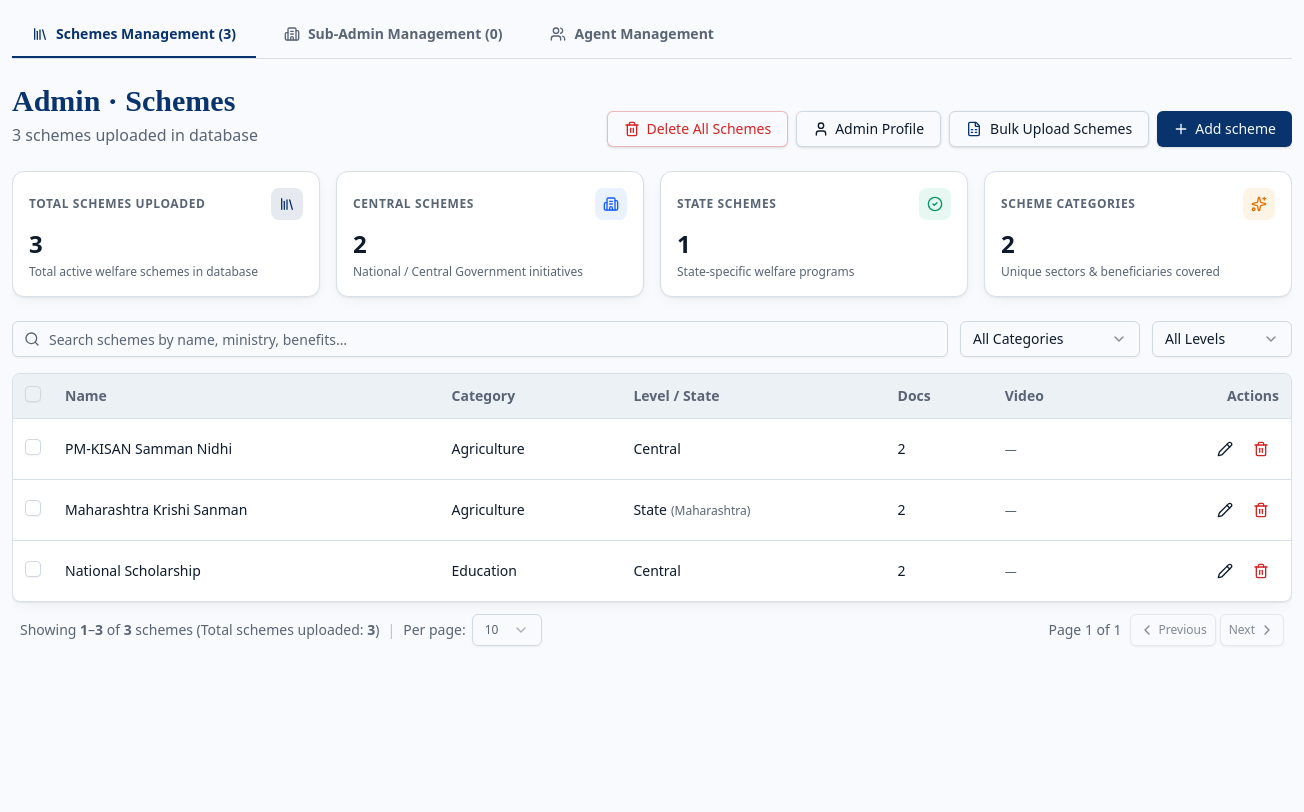
Test: Admin Bulk Delete Schemes Functionality › allows selecting and deselecting individual schemes and shows correct count
# Select scheme 1
Click the checkbox with test id "select-scheme-scheme-1" at x=33, y=447, box x1=25 y1=439 x2=41 y2=455
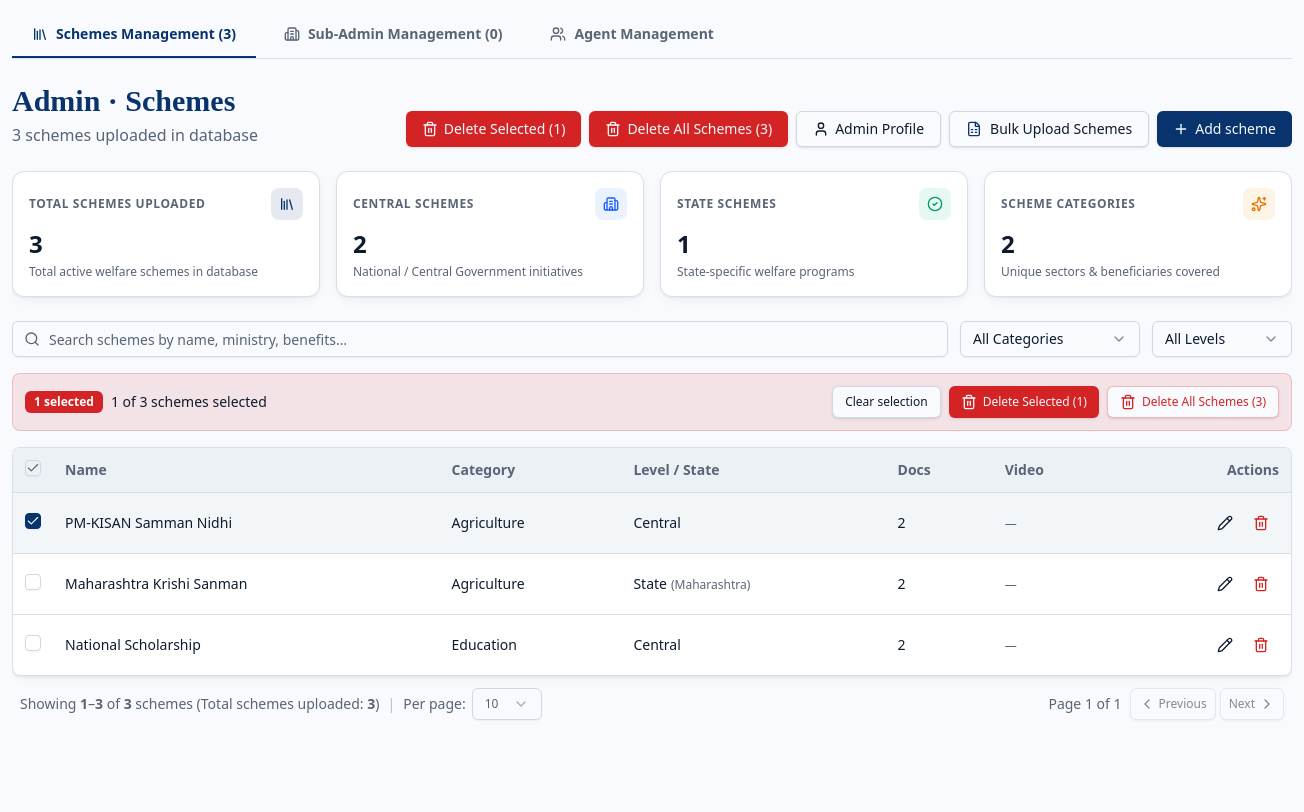
Expected: the element with test id "bulk-actions-bar" is shown, x1=12 y1=373 x2=1292 y2=431
Expected: the text "1 selected" is shown, x1=25 y1=391 x2=103 y2=413
Expected: the button with test id "bulk-delete-button" reads "Delete Selected (1)", x1=949 y1=386 x2=1099 y2=418
# Select scheme 2
Click the checkbox with test id "select-scheme-scheme-2" at x=33, y=582, box x1=25 y1=574 x2=41 y2=590
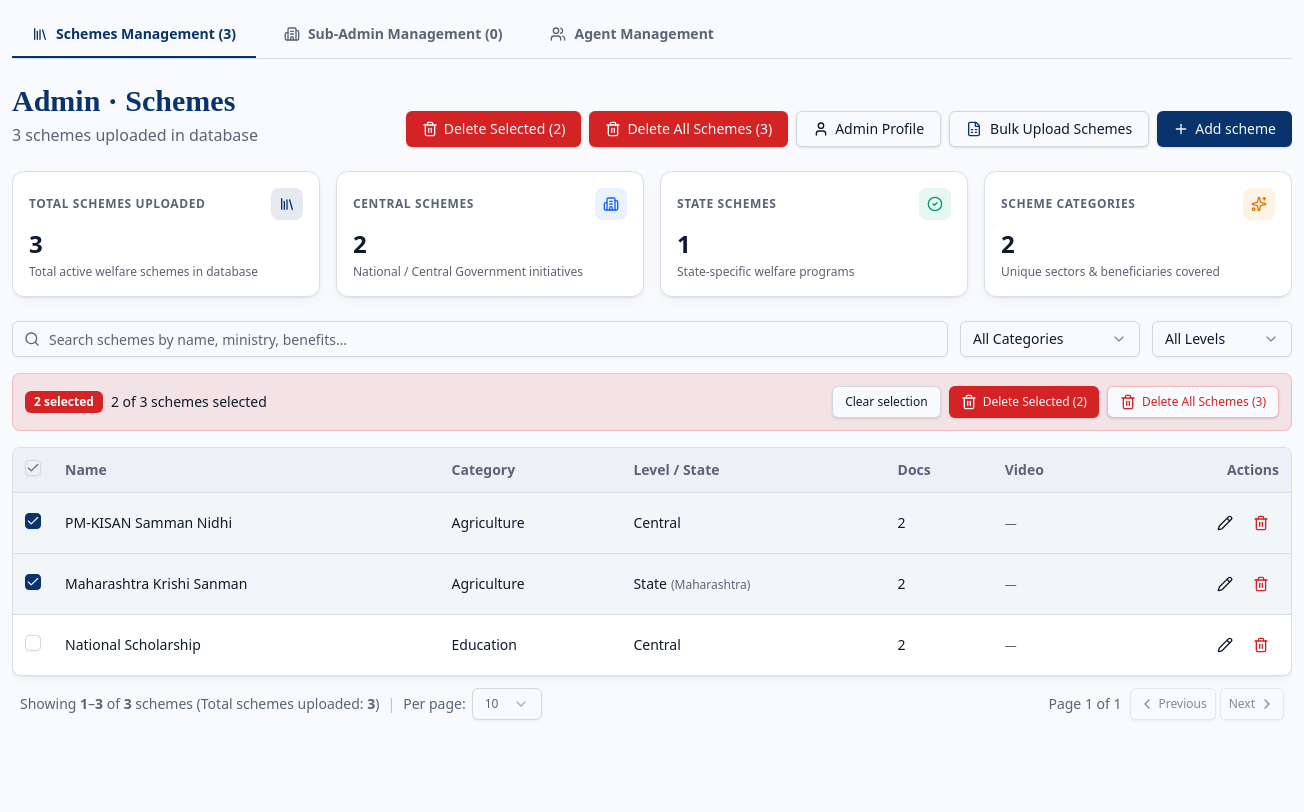
Expected: the text "2 selected" is shown, x1=25 y1=391 x2=103 y2=413
Expected: the button with test id "bulk-delete-button" reads "Delete Selected (2)", x1=949 y1=386 x2=1099 y2=418
# Deselect scheme 1
Click the checkbox with test id "select-scheme-scheme-1" at x=33, y=521, box x1=25 y1=513 x2=41 y2=529
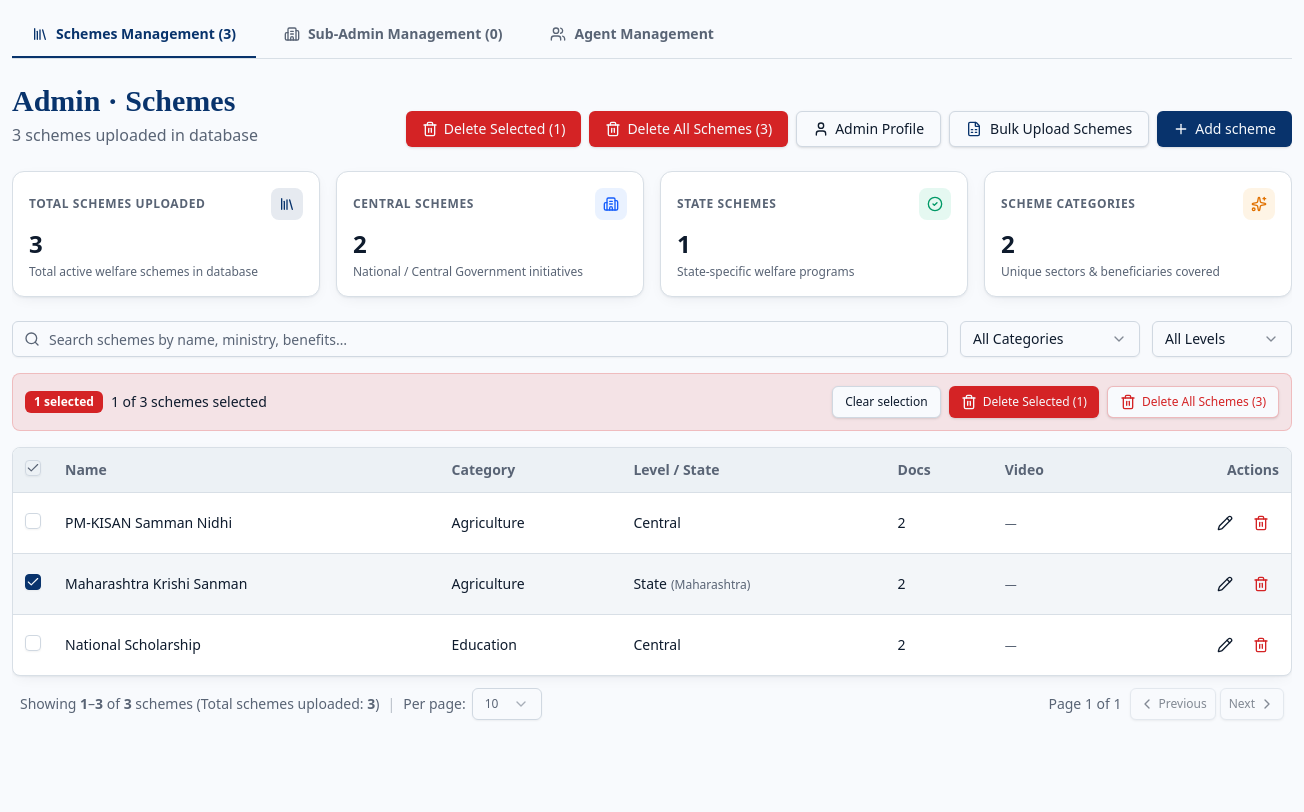
Expected: the text "1 selected" is shown, x1=25 y1=391 x2=103 y2=413
Expected: the button with test id "bulk-delete-button" reads "Delete Selected (1)", x1=949 y1=386 x2=1099 y2=418
